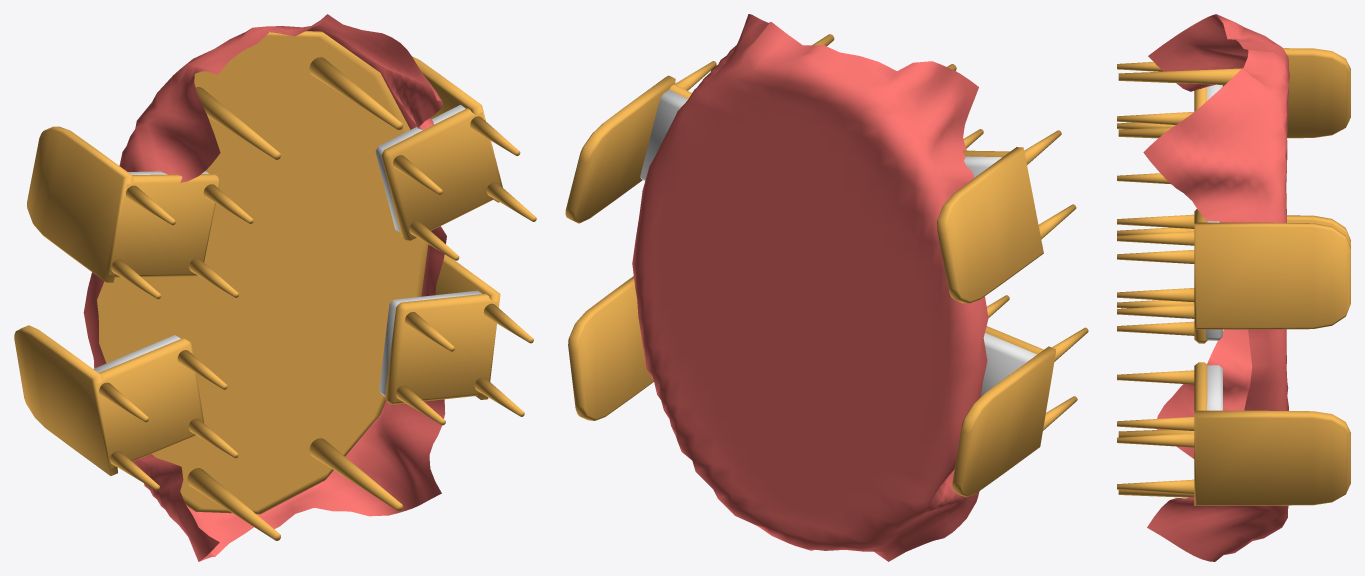
File: Scenery.fbx
The picture shows the model from 3 angles, left to right: view 1: azimuth 30°, elevation 25°; view 2: azimuth 150°, elevation 25°; view 3: azimuth 270°, elevation 25°; orthographic projection. The views are drawn at different scales.
Visible parts, largest first — view 1: Circle.005; view 2: Circle.005; view 3: Circle.005.
Part boxes in pixels (x1,y1,x2,y2): Circle.005: (14,14,536,561); Circle.005: (565,14,1088,561); Circle.005: (1117,14,1350,561).
Bounding box in the file's own units: 3.28 × 3.89 × 1.71.
